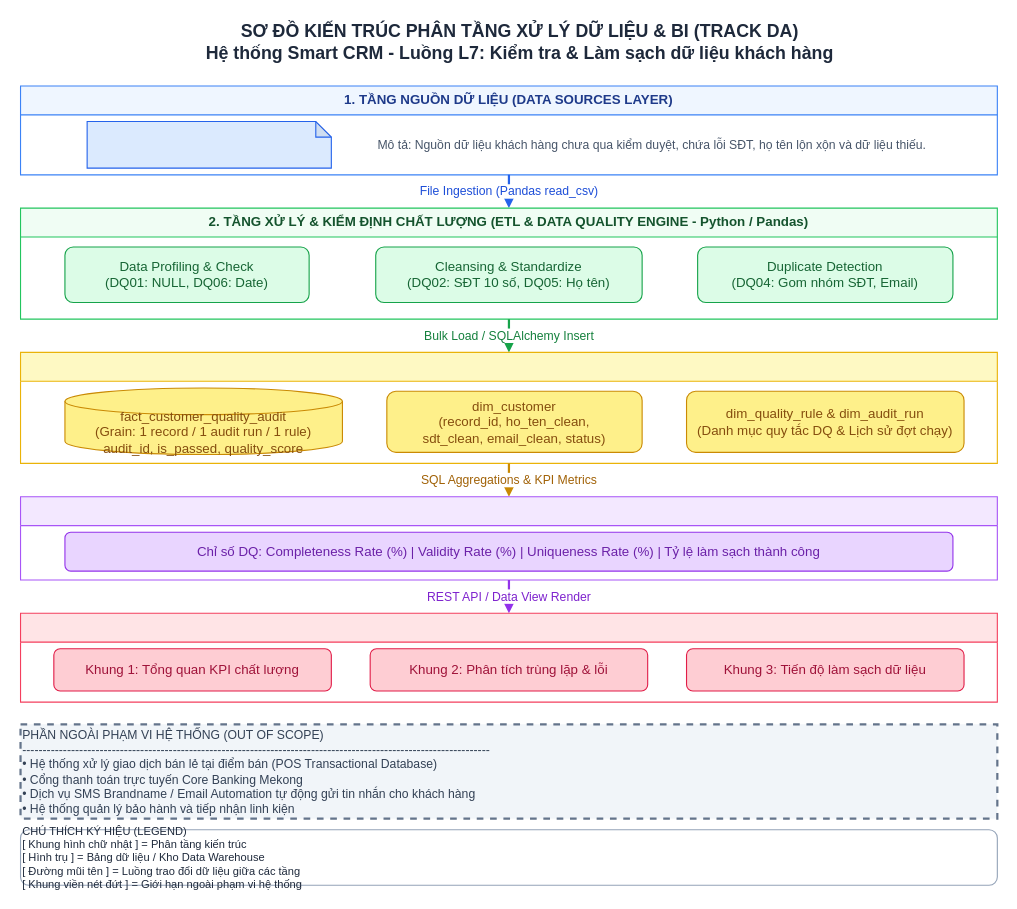
This 1017x909 diagram has some shape labels left out. Each missing label, with the box of its shape:
3. TẦNG LƯU TRỮ KHO DỮ LIỆU (DATA WAREHOUSE LAYER - STAR SCHEMA): (19, 351, 997, 463)
4. TẦNG NGHIỆP VỤ & CHỈ SỐ PHÂN TÍCH (SEMANTIC & ANALYTICS LAYER): (19, 496, 997, 580)
5. TẦNG TRÌNH DIỄN (PRESENTATION / BI DASHBOARD LAYER): (19, 612, 997, 702)
customers_raw.csv (67.037 bản ghi thô, 6 cột): (86, 120, 331, 168)
